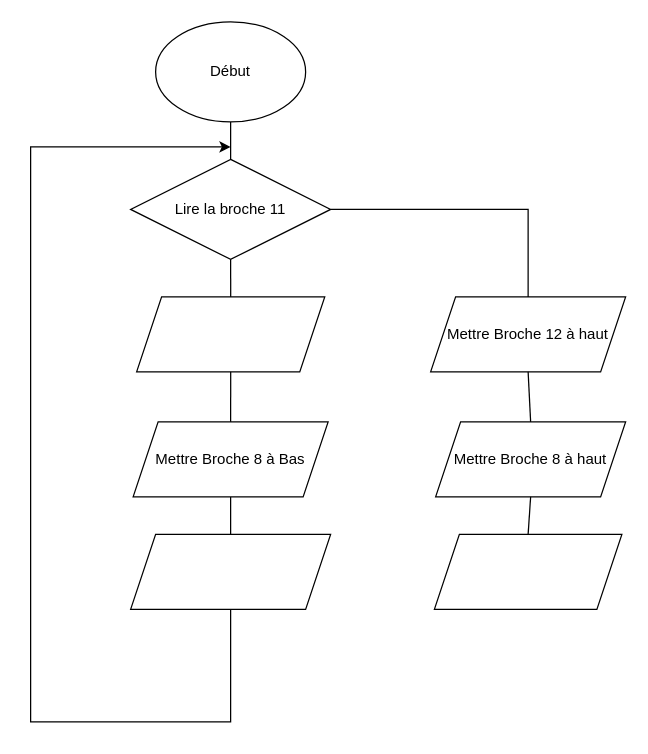
Some shapes in this 648 by 754 pixel diagram are drawn without their labels. Each missing label, with the box of its shape:
Mettre Broche 12 à Bas: (129, 533, 331, 609)
Mettre Broche 13 à Bas: (433, 533, 622, 609)
Mettre Broche 13 à Haut: (135, 296, 325, 372)
